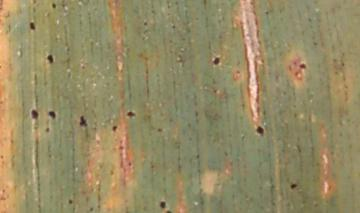tarspot: (211, 55, 221, 67), (79, 115, 88, 127), (256, 125, 265, 136), (47, 109, 56, 119), (46, 53, 54, 64), (31, 109, 39, 120), (29, 21, 37, 31), (126, 110, 136, 118), (290, 182, 298, 190), (159, 201, 166, 208), (299, 62, 306, 69), (51, 3, 58, 9), (45, 127, 51, 133), (67, 198, 73, 204), (143, 20, 148, 27), (112, 125, 117, 131), (157, 128, 163, 132)
